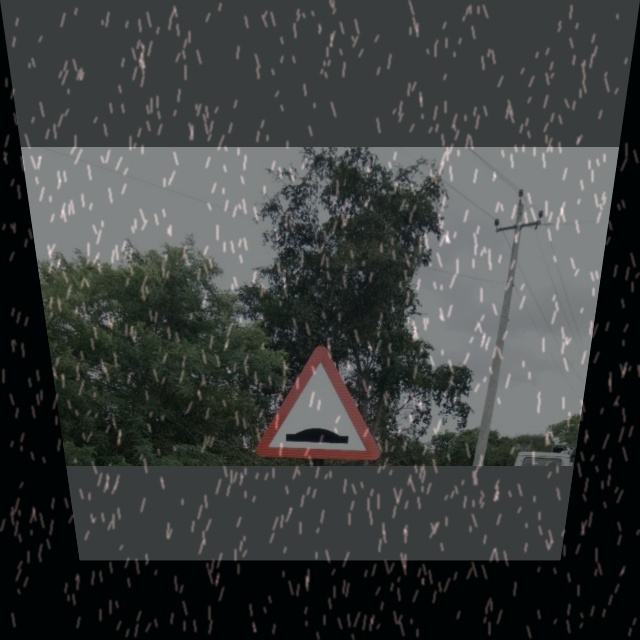Dangerous_Dip: (253, 344, 371, 451)
